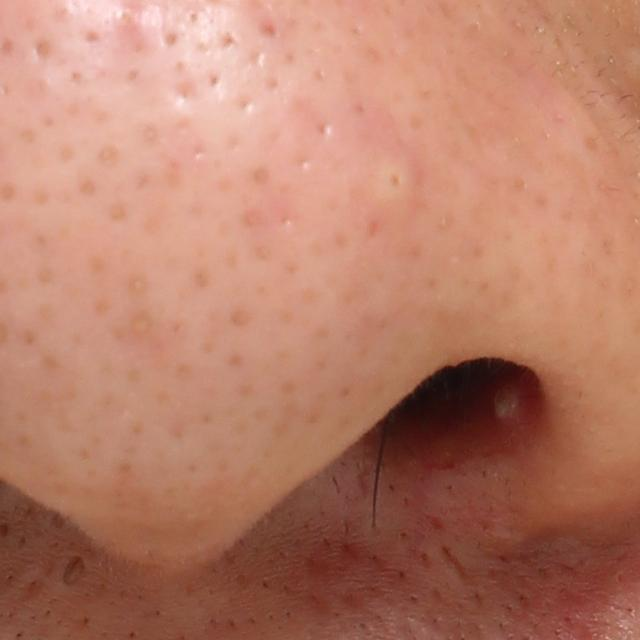atrophic_scar: (444, 545, 471, 583)
comedo: (366, 157, 421, 201), (50, 547, 93, 603)
